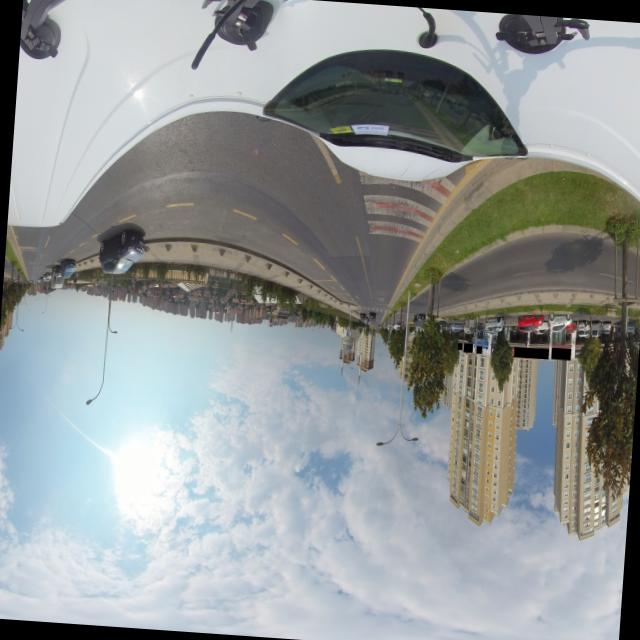SignStore: (512, 347, 548, 357), (550, 347, 570, 358), (462, 342, 472, 351), (475, 344, 480, 352), (457, 341, 461, 349)
